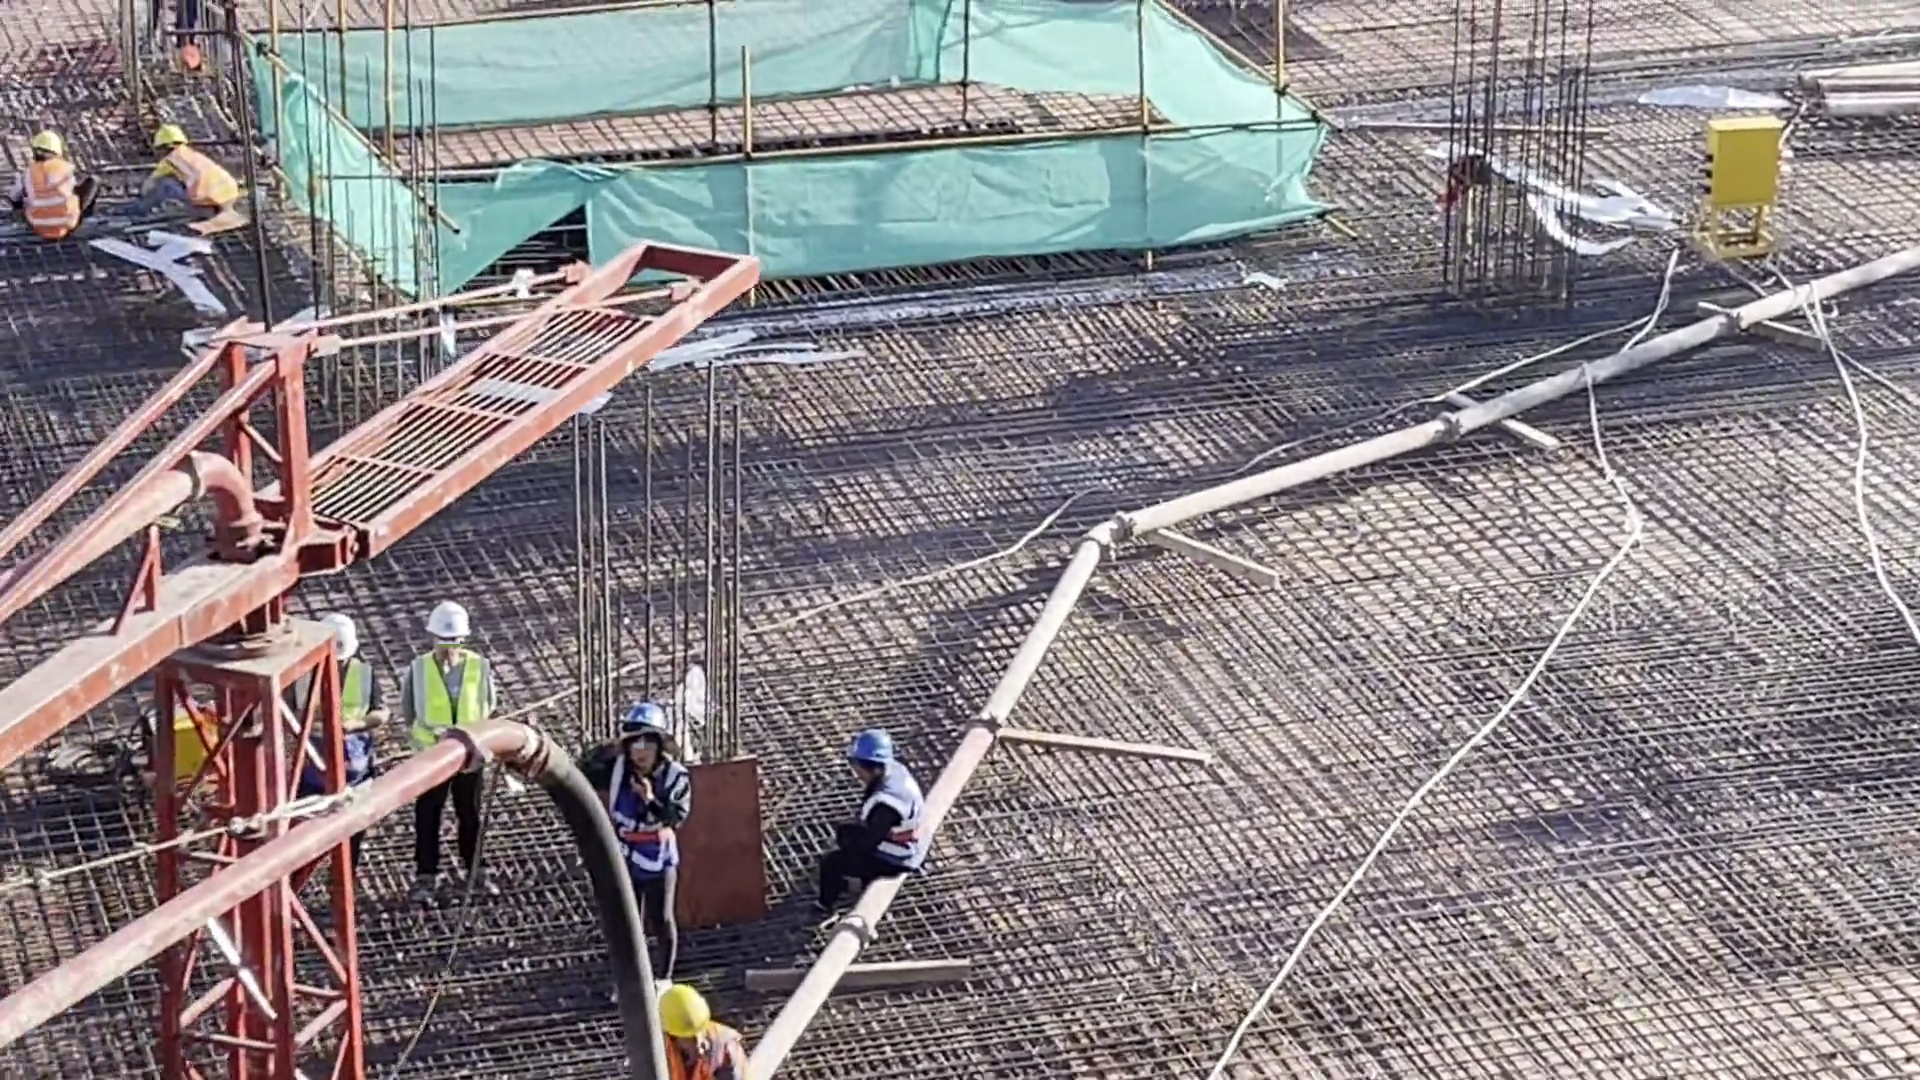ebox: (1701, 124, 1777, 205)
helmet: (655, 986, 715, 1034), (844, 726, 904, 768), (424, 603, 473, 648), (620, 702, 675, 736), (330, 614, 361, 660), (35, 125, 65, 156), (157, 125, 189, 147)
person: (400, 602, 506, 915), (597, 695, 696, 1012), (296, 617, 395, 894), (816, 722, 928, 913), (134, 120, 246, 226), (6, 124, 101, 246), (651, 983, 750, 1080)
vest: (614, 763, 684, 864), (419, 661, 484, 745), (165, 153, 235, 215), (858, 782, 921, 851), (316, 676, 380, 734), (32, 168, 82, 237), (678, 1032, 738, 1080)
